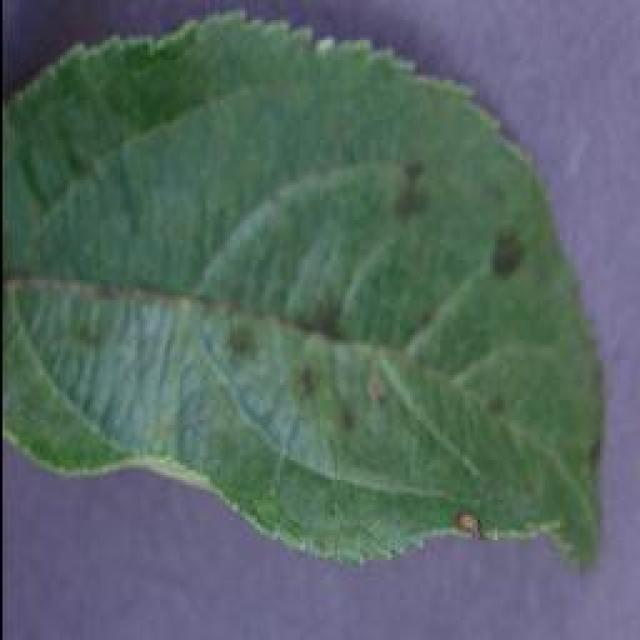apple scab disease: (0, 8, 608, 570)
